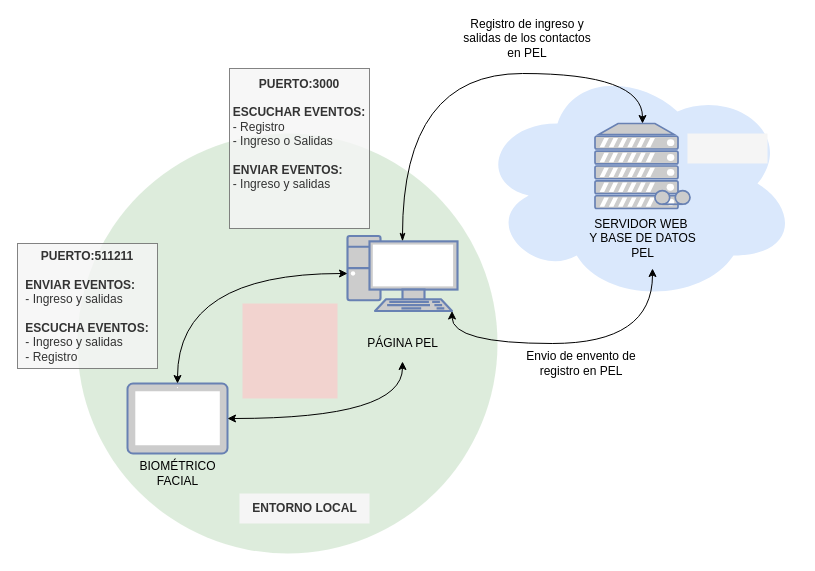
Some shapes in this 815 by 571 pixel diagram are drawn without their labels. Each missing label, with the box of its shape:
Gateway server Servidor local, en el puerto 3000: (242, 303, 337, 398)
INTERNET: (687, 133, 767, 163)
